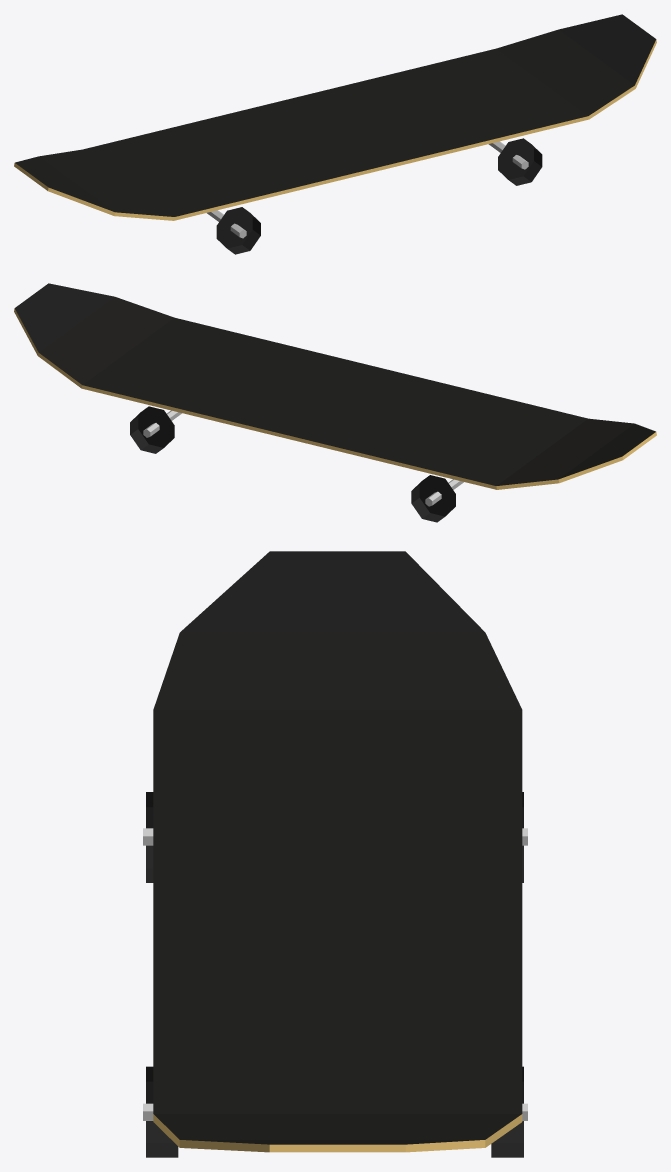
The model's file is Low_Poly_Skateboard_ea45d396.glb.
3 views of the same model, one above another, from view 1: azimuth 30°, elevation 25°; view 2: azimuth 150°, elevation 25°; view 3: azimuth 270°, elevation 25° (orthographic). The views are drawn at different scales.
Parts seen in each view (by area): view 1: Plane_Material.006_0, Plane_Material.010_0, Plane_Material.005_0, Plane_Material.009_0; view 2: Plane_Material.006_0, Plane_Material.010_0, Plane_Material.005_0, Plane_Material.009_0; view 3: Plane_Material.006_0, Plane_Material.005_0, Plane_Material.010_0.
Part boxes in pixels (x1,y1,x2,y2): Plane_Material.006_0: [15, 14, 656, 216]; Plane_Material.010_0: [216, 138, 542, 254]; Plane_Material.005_0: [14, 39, 656, 220]; Plane_Material.009_0: [207, 141, 528, 238]; Plane_Material.006_0: [14, 283, 655, 485]; Plane_Material.010_0: [130, 406, 455, 522]; Plane_Material.005_0: [14, 308, 656, 489]; Plane_Material.009_0: [143, 410, 463, 506]; Plane_Material.006_0: [153, 551, 522, 1144]; Plane_Material.005_0: [153, 1114, 522, 1152]; Plane_Material.010_0: [146, 792, 523, 1157].
Bounding box in the file's own units: 444 × 57.39 × 121.
